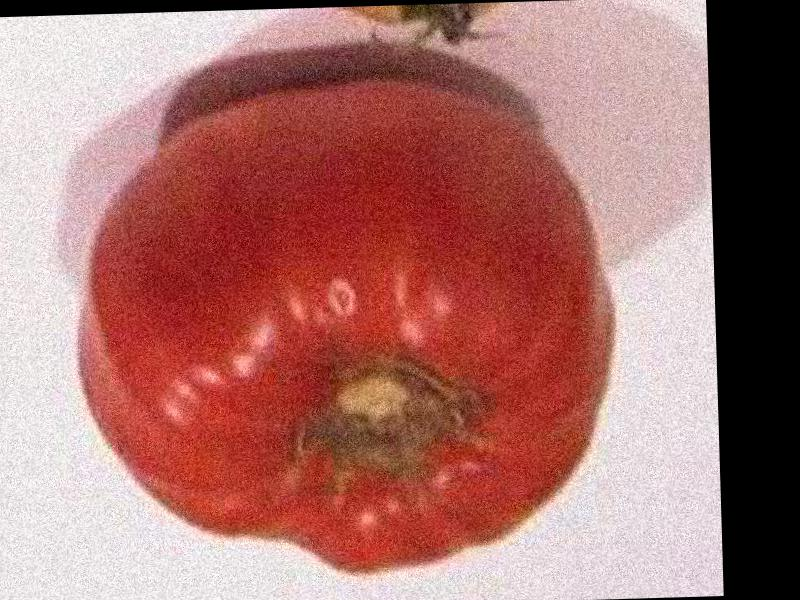Tomato: (77, 80, 618, 578)
